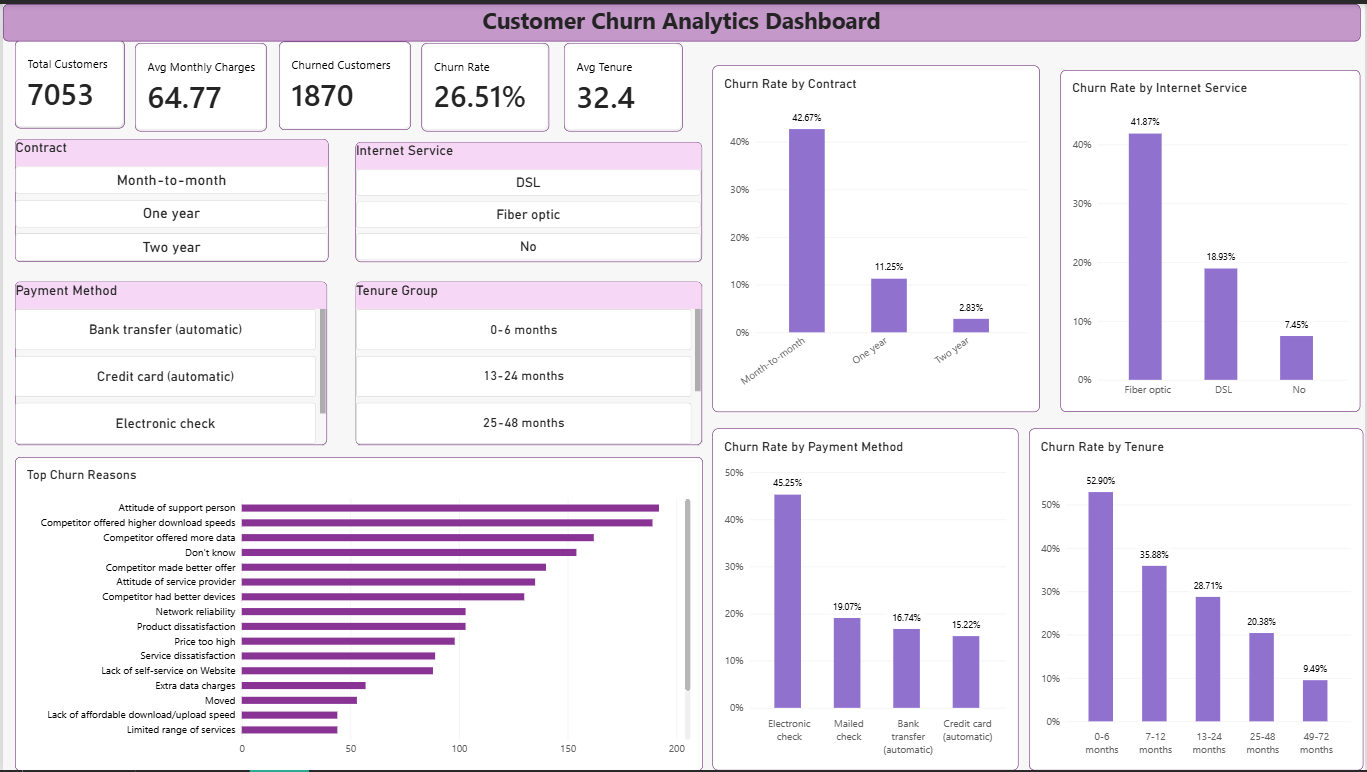

The page's visual inventory and layout, read from the dashboard file:
{"tool":"powerbi","page":{"name":"Page 1","canvas":[1920,1080],"ordinal":0},"visuals":[{"type":"cardVisual","fields":{"Data":["CountNonNull(customer_churn_clean.CustomerID)"]},"box":[16.9,50.8,154.4,124.8],"z":0},{"type":"cardVisual","fields":{"Data":["CountNonNull(customer_churn_clean.Churn Label)"]},"box":[389.1,52.9,186.1,124.8],"z":1000},{"type":"cardVisual","fields":{"Data":["customer_churn_clean.Churn Rate"]},"box":[590.1,55,179.8,124.8],"z":2000},{"type":"lineClusteredColumnComboChart","title":"Churn Rate by Contract","fields":{"Category":["customer_churn_clean.Contract"],"Y":["customer_churn_clean.Churn Rate"]},"box":[1000.4,86.7,461.1,488.5],"z":3000},{"type":"lineClusteredColumnComboChart","title":"Churn Rate by Internet Service","fields":{"Category":["customer_churn_clean.Internet Service"],"Y":["customer_churn_clean.Churn Rate"]},"box":[1491,93.1,423,482.2],"z":4000},{"type":"lineClusteredColumnComboChart","title":"Churn Rate by Payment Method","fields":{"Category":["customer_churn_clean.Payment Method"],"Y":["customer_churn_clean.Churn Rate"]},"box":[1000.4,598.5,431.4,482.2],"z":5000},{"type":"lineClusteredColumnComboChart","title":"Churn Rate by Tenure","fields":{"Category":["customer_churn_clean.Tenure Group"],"Y":["customer_churn_clean.Churn Rate"]},"box":[1446.6,598.5,471.6,482.2],"z":6000},{"type":"cardVisual","fields":{"Data":["Avg(customer_churn_clean.Monthly Charges)"]},"box":[186.1,55,186.1,124.8],"z":7000},{"type":"cardVisual","fields":{"Data":["Avg(customer_churn_clean.Tenure Months)"]},"box":[791,55,167.1,124.8],"z":8000},{"type":"clusteredBarChart","title":"Top Churn Reasons","fields":{"Category":["customer_churn_clean.Churn Reason"],"Y":["CountNonNull(customer_churn_clean.CustomerID)"]},"box":[15.9,638.2,969.8,442.9],"z":9000},{"type":"advancedSlicerVisual","fields":{"Values":["customer_churn_clean.Contract"]},"box":[16.9,190.3,442,173.4],"z":10000},{"type":"advancedSlicerVisual","fields":{"Values":["customer_churn_clean.Internet Service"]},"box":[497,194.6,488.5,169.2],"z":11000},{"type":"advancedSlicerVisual","fields":{"Values":["customer_churn_clean.Payment Method"]},"box":[16.9,391.3,439.9,230.5],"z":12000},{"type":"textbox","box":[0,0,1914,52.9],"z":13000},{"type":"advancedSlicerVisual","fields":{"Values":["customer_churn_clean.Tenure Group"]},"box":[497,391.3,488.5,230.5],"z":14000}]}

Visuals, with their boxes in screenshot pixels (x1, y1, x2, y2), scaled from the page's 1920x1080 canvas onto the 1367x772 screenshot:
cardVisual - CountNonNull(customer_churn_clean.CustomerID): <box>12,36,122,126</box>
cardVisual - CountNonNull(customer_churn_clean.Churn Label): <box>277,38,410,127</box>
cardVisual - customer_churn_clean.Churn Rate: <box>420,39,548,129</box>
"Churn Rate by Contract" lineClusteredColumnComboChart: <box>712,62,1041,411</box>
"Churn Rate by Internet Service" lineClusteredColumnComboChart: <box>1062,67,1363,411</box>
"Churn Rate by Payment Method" lineClusteredColumnComboChart: <box>712,428,1019,771</box>
"Churn Rate by Tenure" lineClusteredColumnComboChart: <box>1030,428,1366,771</box>
cardVisual - Avg(customer_churn_clean.Monthly Charges): <box>132,39,265,129</box>
cardVisual - Avg(customer_churn_clean.Tenure Months): <box>563,39,682,129</box>
"Top Churn Reasons" clusteredBarChart: <box>11,456,702,771</box>
advancedSlicerVisual - customer_churn_clean.Contract: <box>12,136,327,260</box>
advancedSlicerVisual - customer_churn_clean.Internet Service: <box>354,139,702,260</box>
advancedSlicerVisual - customer_churn_clean.Payment Method: <box>12,280,325,444</box>
textbox: <box>0,0,1363,38</box>
advancedSlicerVisual - customer_churn_clean.Tenure Group: <box>354,280,702,444</box>
